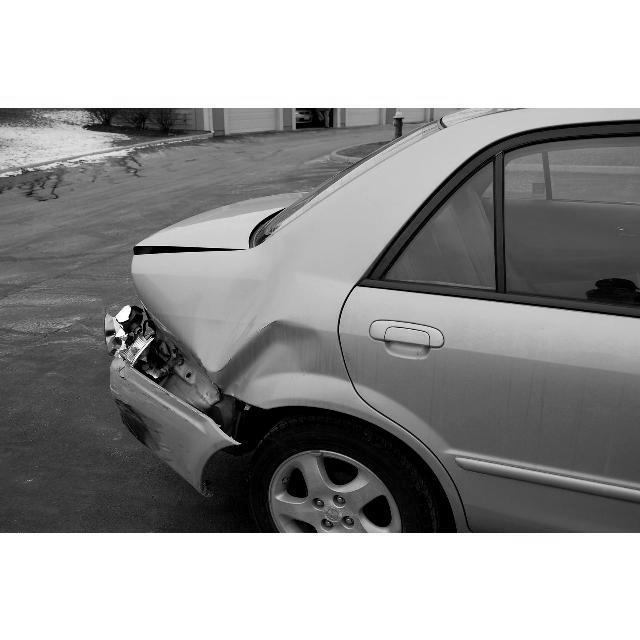quaterpanel-dent: (224, 254, 370, 419)
rear-bumper-dent: (83, 317, 209, 445)
